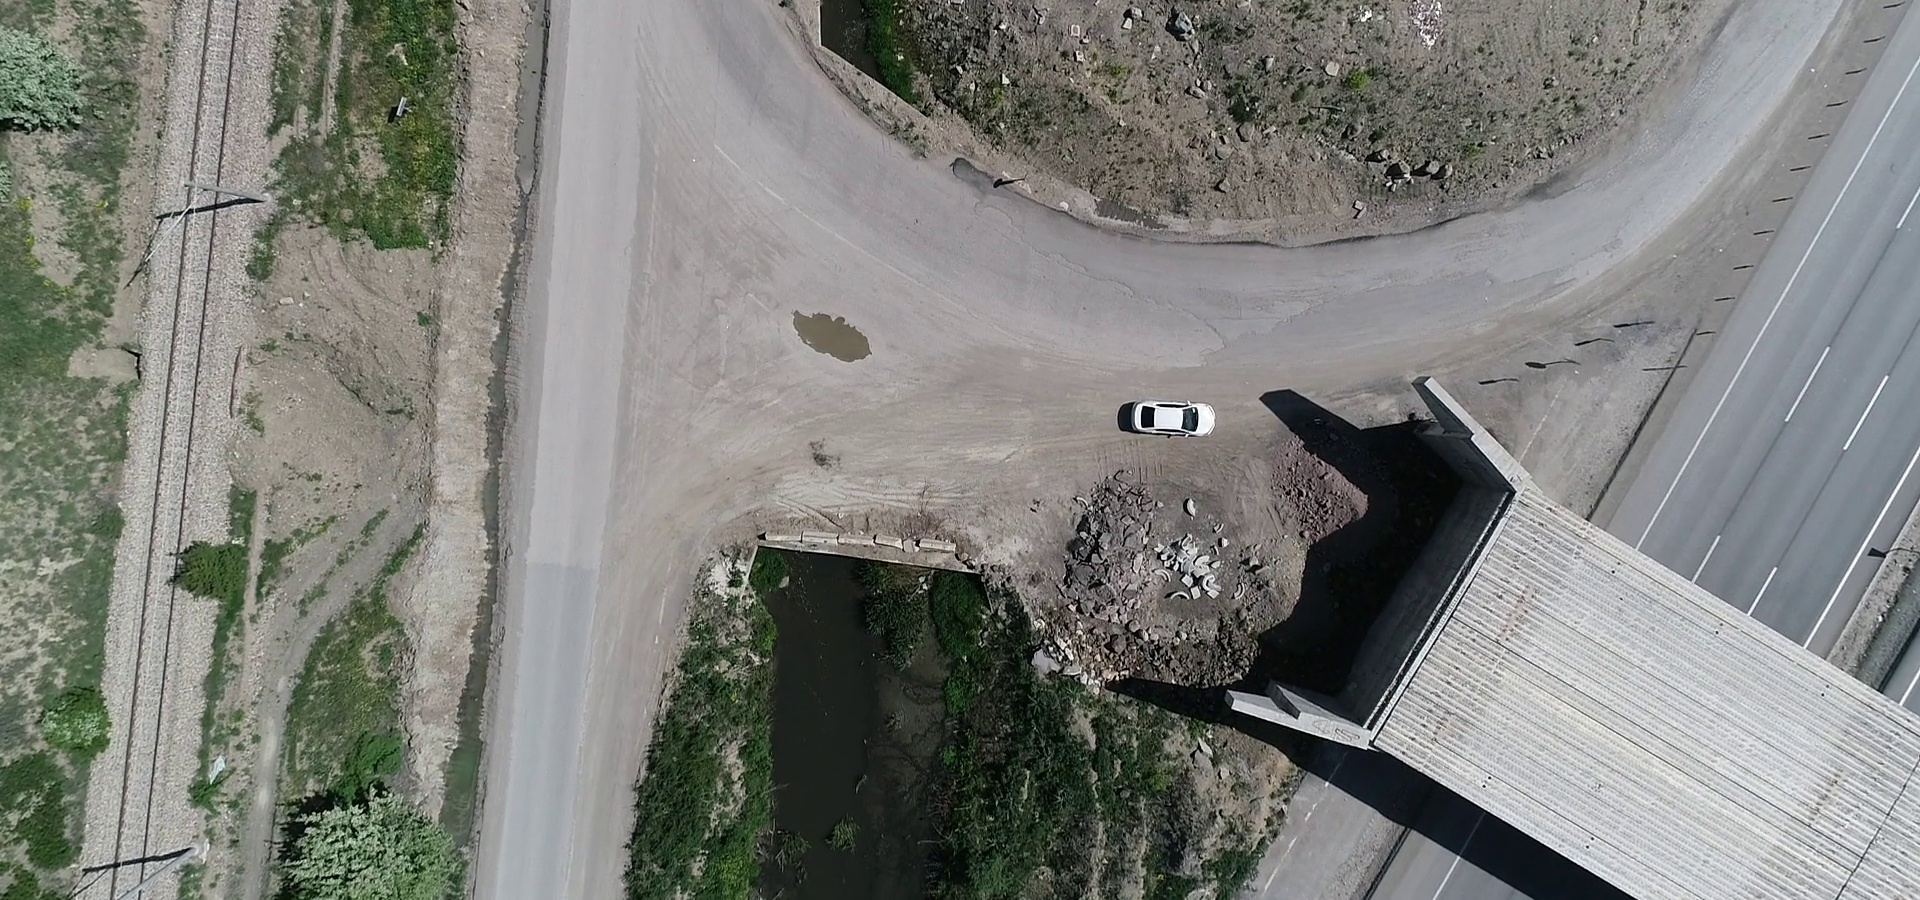arac: (1125, 389, 1221, 447)
